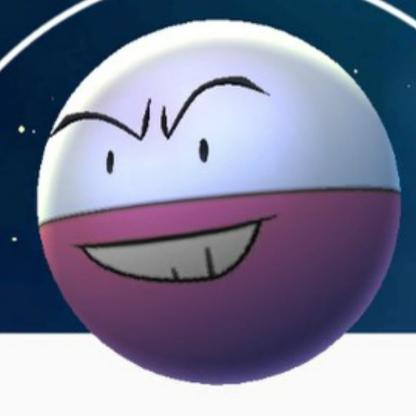Electrode: (48, 16, 378, 391)
